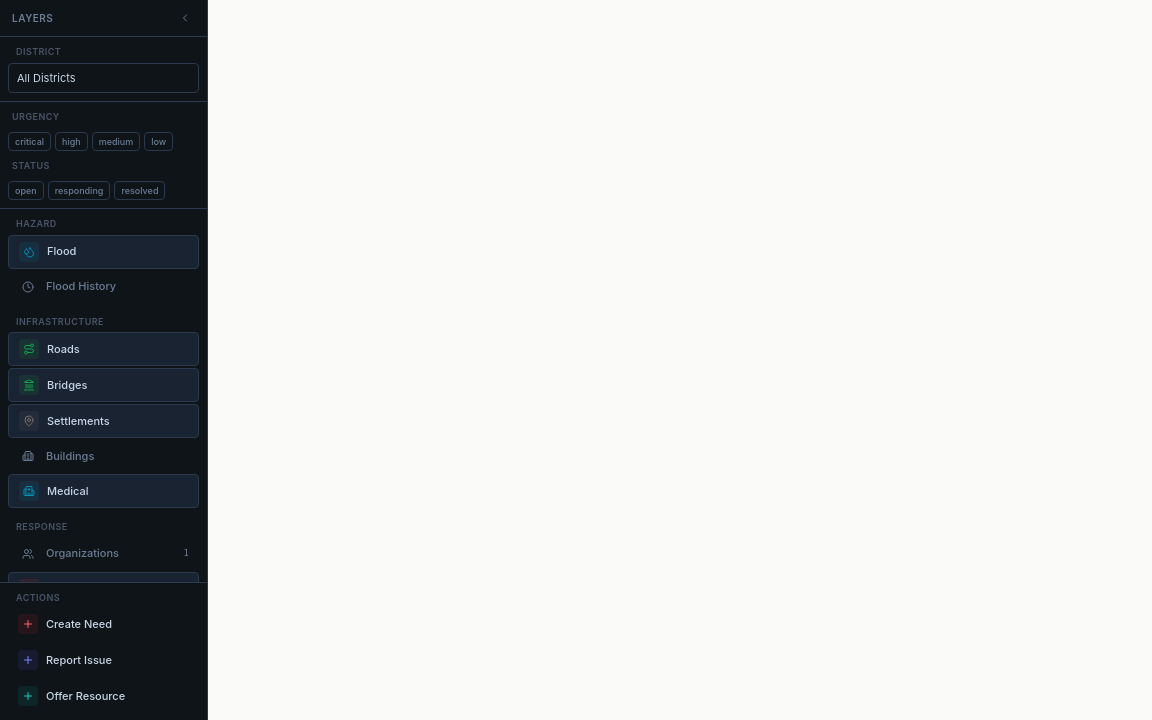
Scenario: ReliefOS Operational Map Controls UI/UX Verification › 3. Organizations toggle opens Organizations list context panel
Click the button with test id "layer-organizations" at [104, 554], box x1=8 y1=538 x2=199 y2=570
Wait 200 ms
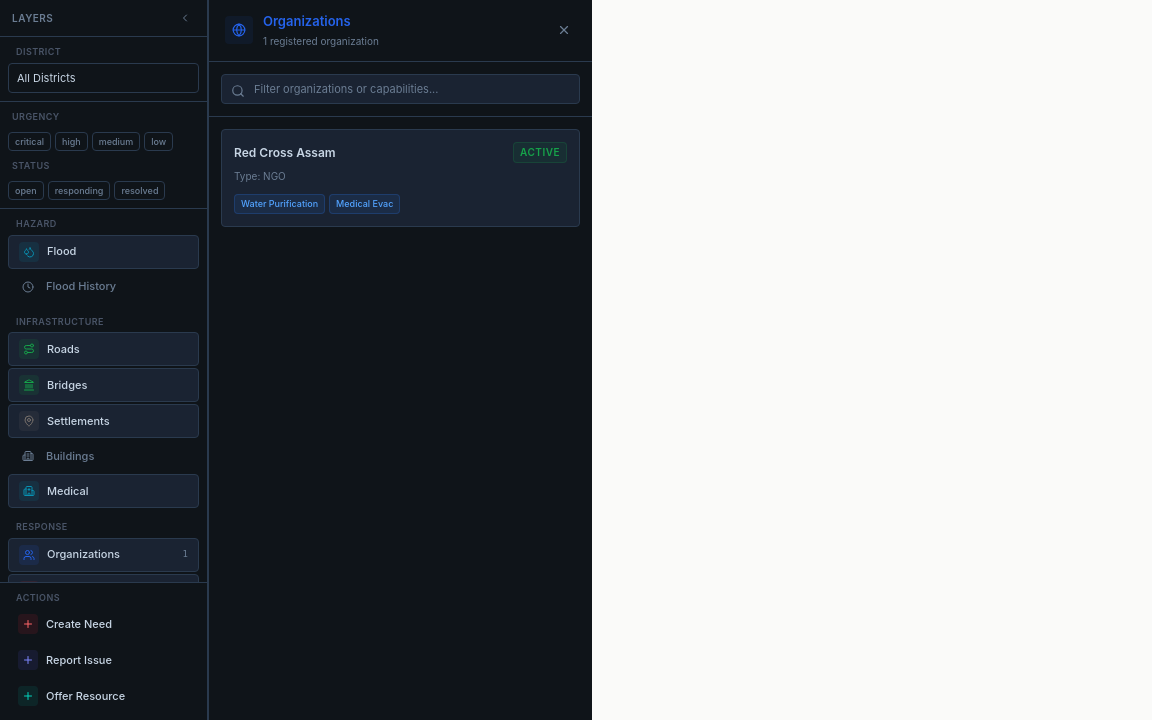
Now the text "Red Cross Assam" is shown, box x1=234 y1=144 x2=336 y2=162
Now the text "Water Purification" is shown, box x1=234 y1=194 x2=325 y2=214
